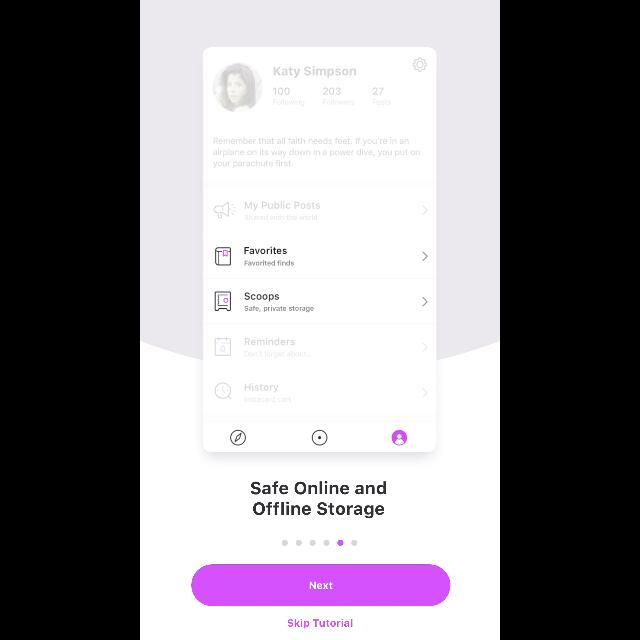image: (203, 48, 437, 452)
pageindicator: (282, 540, 358, 546)
text: (252, 482, 386, 518), (288, 618, 352, 628)
textbutton: (192, 564, 450, 606)
